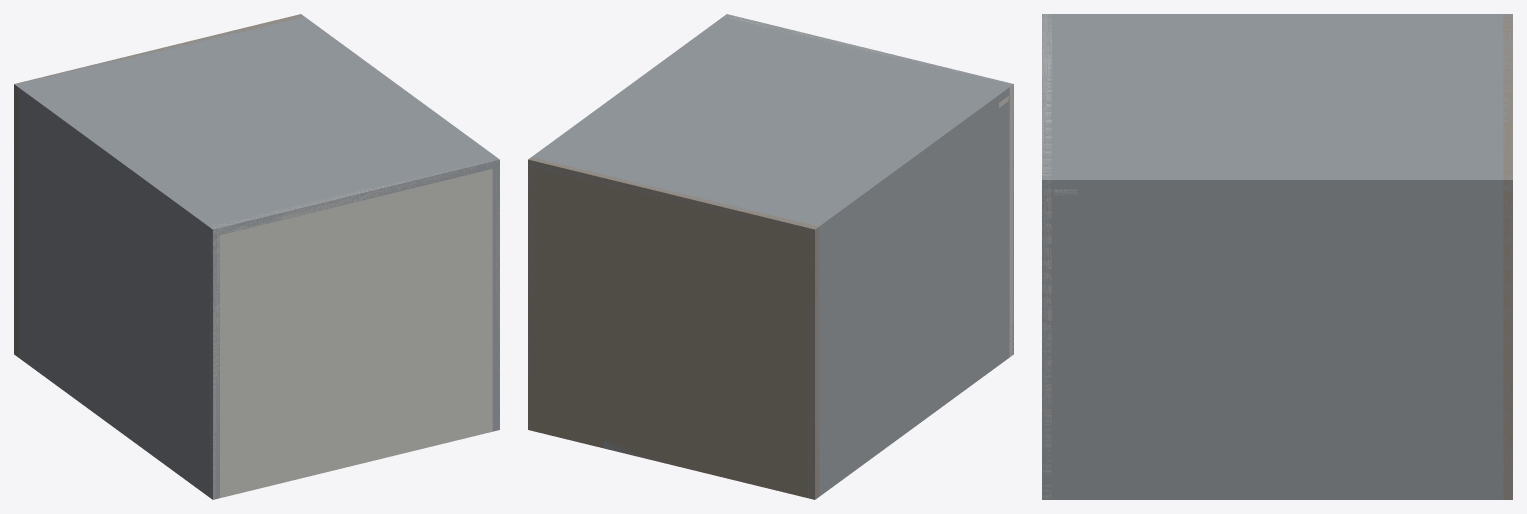
The picture shows the model from 3 angles, left to right: view 1: azimuth 30°, elevation 25°; view 2: azimuth 150°, elevation 25°; view 3: azimuth 270°, elevation 25°; orthographic projection. The views are drawn at different scales.
Visible parts, largest first — view 1: ceiling, back_wall, left_wall, right_wall, floor; view 2: floor, back_wall, left_wall, ceiling, right_wall; view 3: right_wall, back_wall, floor, ceiling, left_wall.
Boxes of the visible parts, bbox=[...] form: ceiling: bbox=[209, 159, 499, 499]; back_wall: bbox=[14, 14, 499, 236]; left_wall: bbox=[14, 85, 219, 499]; right_wall: bbox=[296, 14, 499, 431]; floor: bbox=[14, 14, 303, 356]; floor: bbox=[528, 157, 819, 499]; back_wall: bbox=[528, 14, 1013, 235]; left_wall: bbox=[808, 87, 1013, 499]; ceiling: bbox=[724, 15, 1013, 356]; right_wall: bbox=[528, 14, 732, 428]; right_wall: bbox=[1042, 175, 1512, 499]; back_wall: bbox=[1042, 14, 1512, 188]; floor: bbox=[1503, 14, 1512, 499]; ceiling: bbox=[1042, 14, 1051, 499]; left_wall: bbox=[1042, 14, 1511, 17].
Size of the model in its own units: 2 by 1.8 by 2.4.
